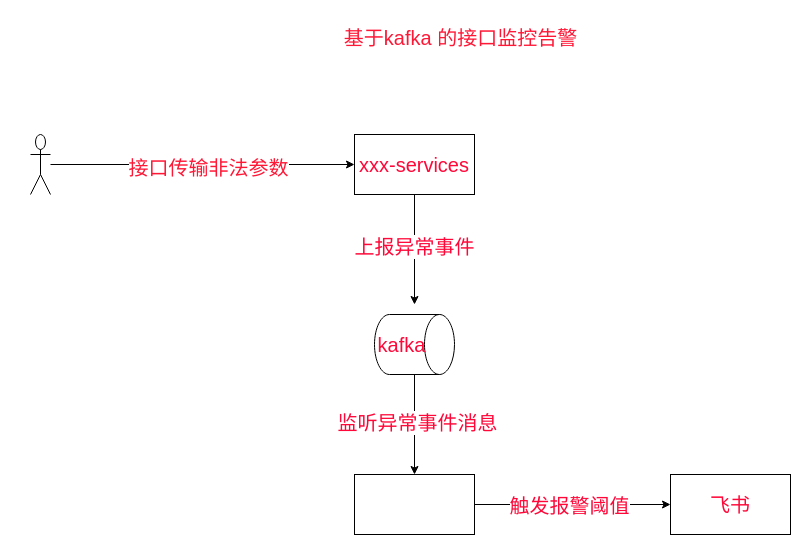
Image size: 808x552. Some labels were removed from this diagram. Here are the shapes that lost their labels. From the top down, the box of each, then its label:
(30, 134, 50, 194): Actor
(354, 474, 474, 534): app-services
